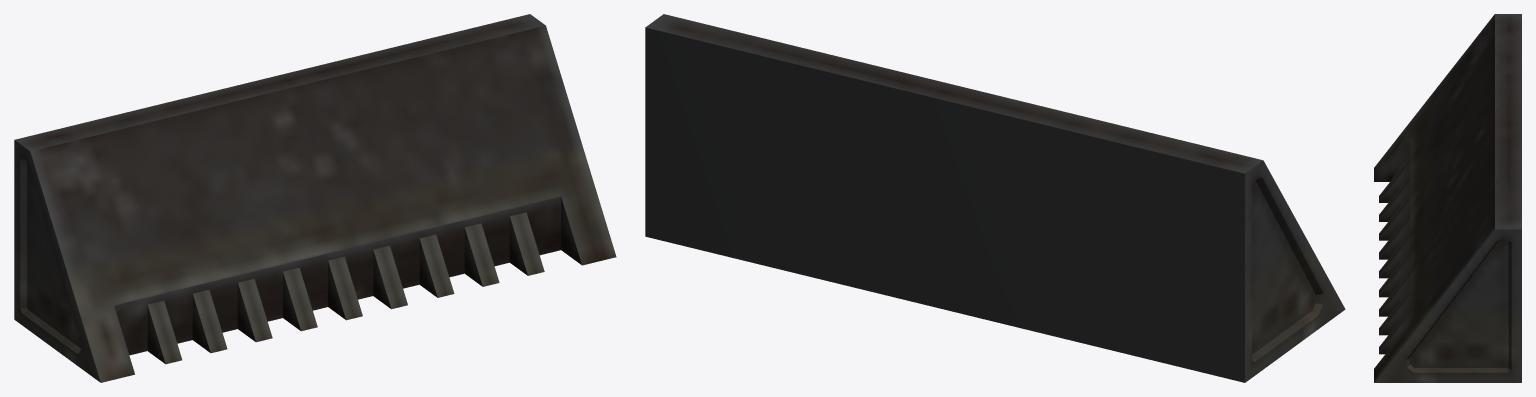
Rendered from Shield_01.FBX.
The picture shows the model from 3 angles, left to right: view 1: azimuth 30°, elevation 25°; view 2: azimuth 150°, elevation 25°; view 3: azimuth 270°, elevation 25°; orthographic projection. The views are drawn at different scales.
Visible parts, largest first — view 1: Shield_01; view 2: Shield_01; view 3: Shield_01.
Part boxes in pixels (x1,y1,x2,y2): Shield_01: (14,14,616,382); Shield_01: (645,14,1345,382); Shield_01: (1374,14,1521,382).
Bounding box in the file's own units: 300 × 100 × 87.08.
